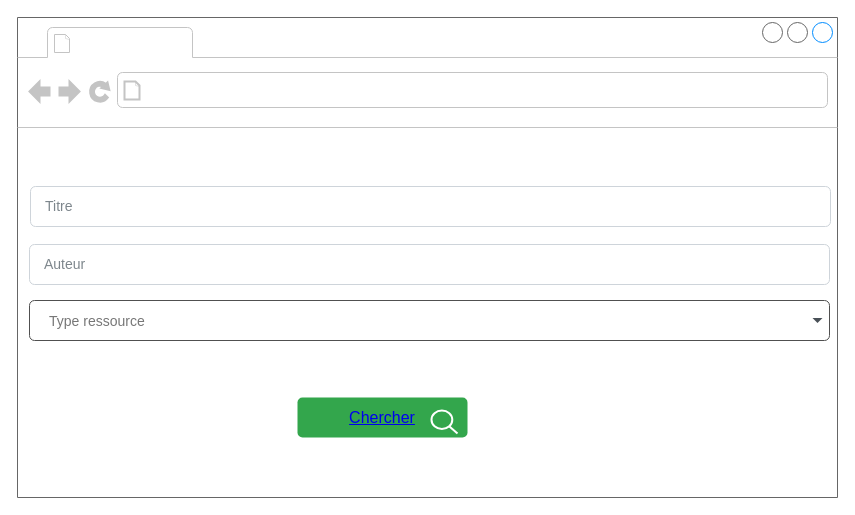
This 855x515 diagram has some shape labels left out. The shapes that lost their labels are listed below. From the top down, each one's centre as x and y in pixels, then its label:
At (x=132, y=42): "Chercher une ressource".
At (x=272, y=90): "https://www.draw.io".
